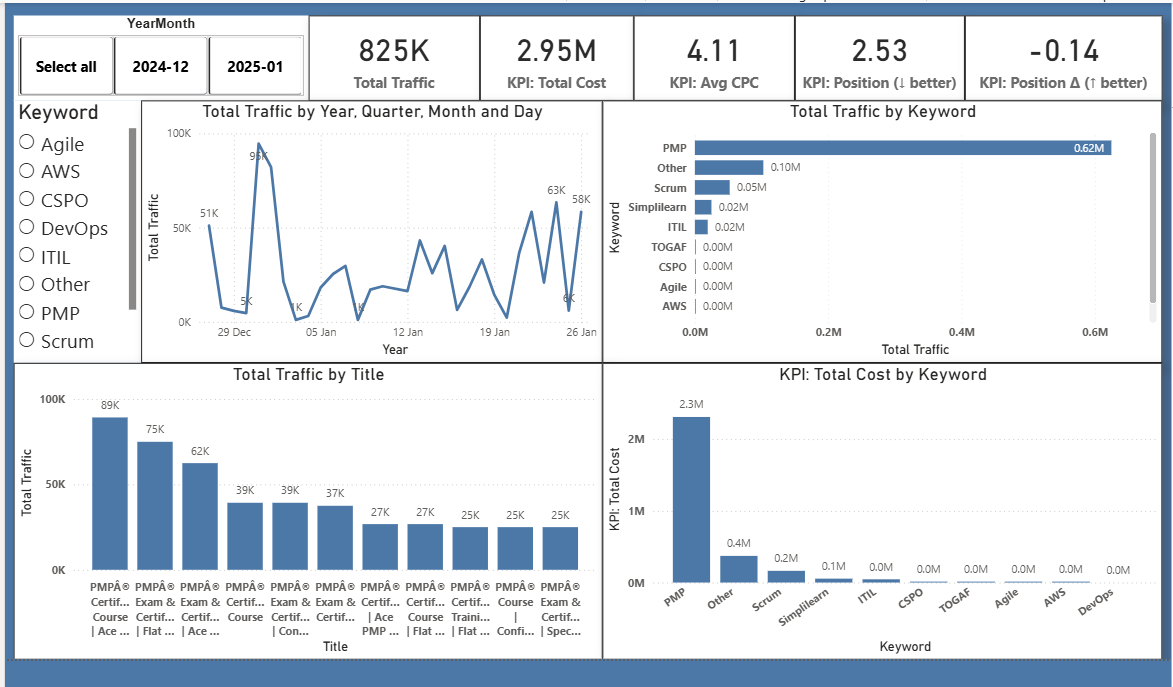

Layout of this report page (visuals, bound fields, positions):
{"tool":"powerbi","page":{"name":"Executive Overview","canvas":[1280,720],"ordinal":0},"visuals":[{"type":"advancedSlicerVisual","fields":{"Values":["Date.YearMonth"]},"box":[9.6,13.7,323.8,93.3],"z":0},{"type":"listSlicer","fields":{"Values":["internshipproject_trafficdata keyword_dimtable.Keyword"]},"box":[9.6,107,140,288.2],"z":1000},{"type":"card","fields":{"Values":["Aggregations.Total Traffic"]},"box":[333.4,13.7,188,93.3],"z":2000},{"type":"card","fields":{"Values":["Aggregations.KPI: Total Cost"]},"box":[521.4,13.7,168.8,93.3],"z":3000},{"type":"card","fields":{"Values":["Aggregations.KPI: Avg CPC"]},"box":[690.2,13.7,177,93.3],"z":4000},{"type":"card","fields":{"Values":["Aggregations.KPI: Position (↓ better)"]},"box":[867.2,13.7,186.6,93.3],"z":5000},{"type":"card","fields":{"Values":["Aggregations.KPI: Position Δ (↑ better)"]},"box":[1053.9,13.7,216.8,93.3],"z":6000},{"type":"lineChart","fields":{"Y":["Aggregations.Total Traffic"],"Category":["Date.Date.Variation.Date Hierarchy.Year","Date.Date.Variation.Date Hierarchy.Quarter","Date.Date.Variation.Date Hierarchy.Month","Date.Date.Variation.Date Hierarchy.Day"]},"box":[149.6,107,506.3,288.2],"z":7000},{"type":"clusteredBarChart","fields":{"Category":["internshipproject_trafficdata keyword_dimtable.Keyword"],"Y":["Aggregations.Total Traffic"]},"box":[655.9,107,614.8,288.2],"z":8000},{"type":"columnChart","fields":{"Category":["internshipproject_trafficdata adword_maintable.Title"],"Y":["Aggregations.Total Traffic"]},"box":[9.6,395.2,646.3,325.2],"z":9000},{"type":"clusteredColumnChart","fields":{"Y":["Aggregations.KPI: Total Cost"],"Category":["internshipproject_trafficdata keyword_dimtable.Keyword"]},"box":[655.9,395.2,614.8,325.2],"z":10000}]}

Visuals, with their boxes on the page's 1280x720 design canvas (x1, y1, x2, y2). These are canvas units, not pixel positions in the 1173x687 screenshot, which may show the page scaled, cropped or inside an application window:
advancedSlicerVisual - Date.YearMonth: (10,14,333,107)
listSlicer - internshipproject_trafficdata keyword_dimtable.Keyword: (10,107,150,395)
card - Aggregations.Total Traffic: (333,14,521,107)
card - Aggregations.KPI: Total Cost: (521,14,690,107)
card - Aggregations.KPI: Avg CPC: (690,14,867,107)
card - Aggregations.KPI: Position (↓ better): (867,14,1054,107)
card - Aggregations.KPI: Position Δ (↑ better): (1054,14,1271,107)
lineChart - Aggregations.Total Traffic x Date.Date.Variation.Date Hierarchy.Year: (150,107,656,395)
clusteredBarChart - internshipproject_trafficdata keyword_dimtable.Keyword x Aggregations.Total Traffic: (656,107,1271,395)
columnChart - internshipproject_trafficdata adword_maintable.Title x Aggregations.Total Traffic: (10,395,656,720)
clusteredColumnChart - Aggregations.KPI: Total Cost x internshipproject_trafficdata keyword_dimtable.Keyword: (656,395,1271,720)
